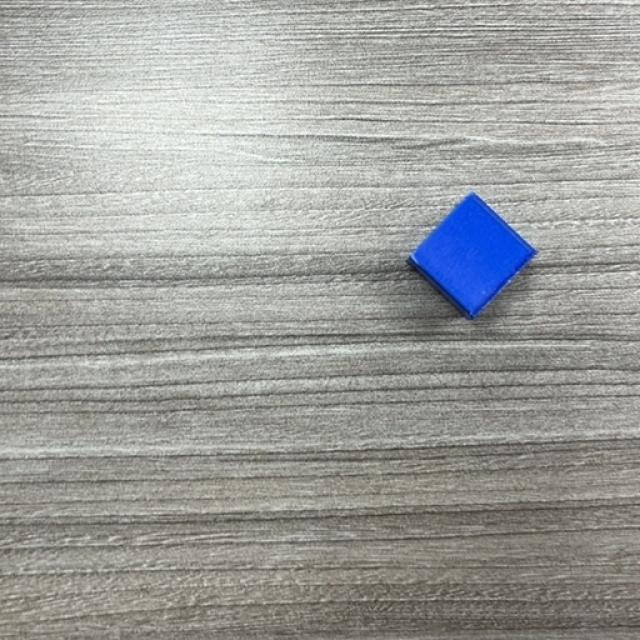Azul: (408, 194, 539, 320)
